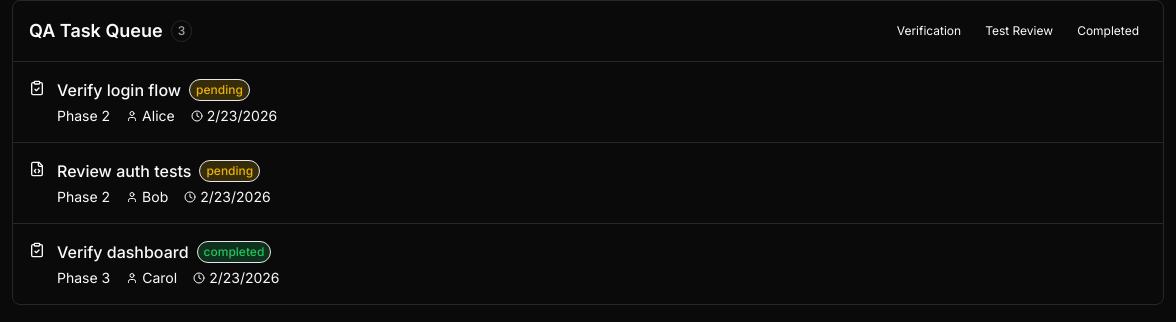
QATaskQueue › filters by status
Step 1. Click the button with test id "filter-completed" → (1108, 31), box [1069,19,1147,43]
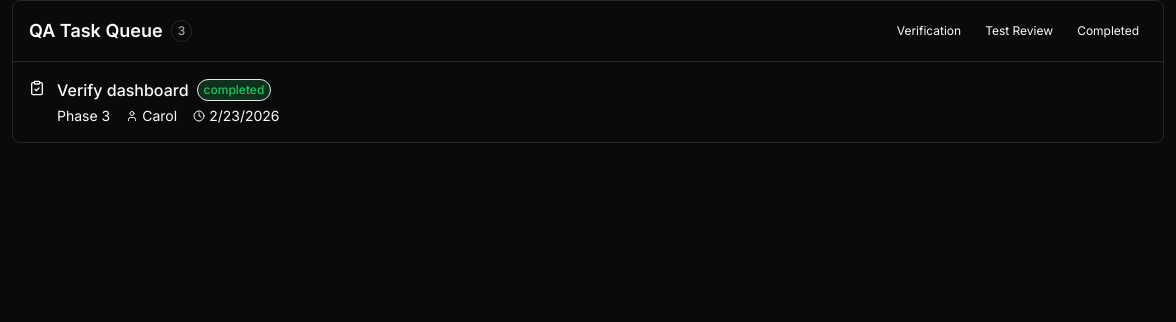
expect the text "Verify dashboard" is shown: met, box [57,78,189,102]
expect the button "Verify login flow" is gone: met
